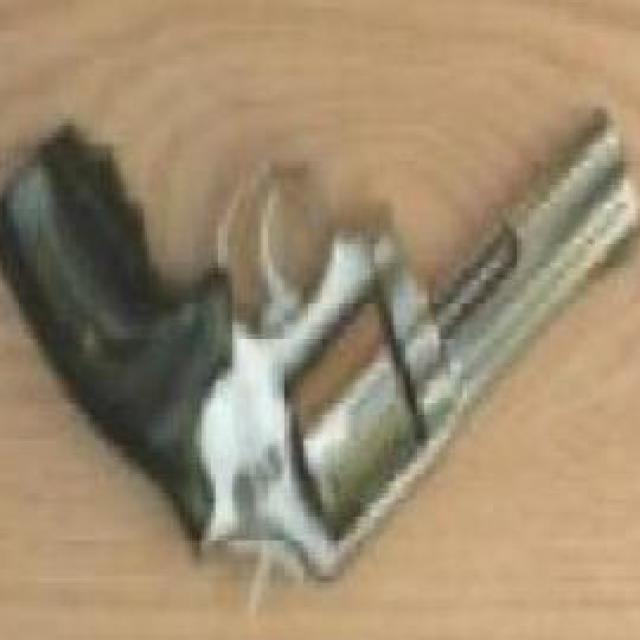pistol: (0, 126, 633, 604)
